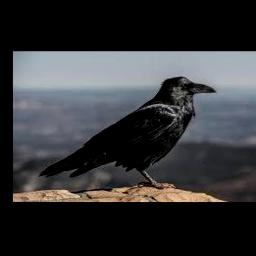Crow: (37, 76, 216, 189)
